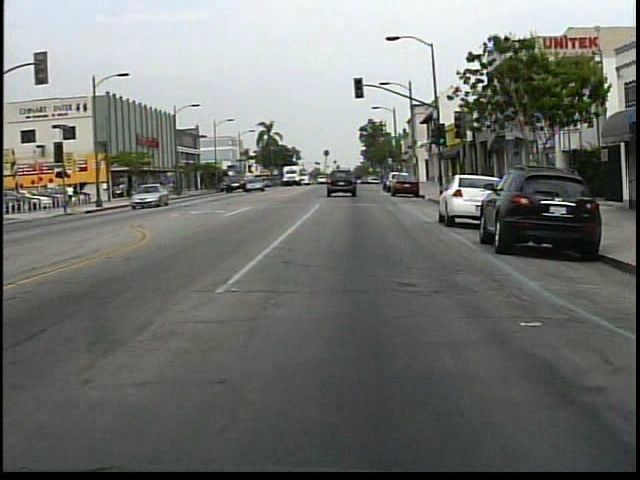person: (67, 182, 79, 210)
